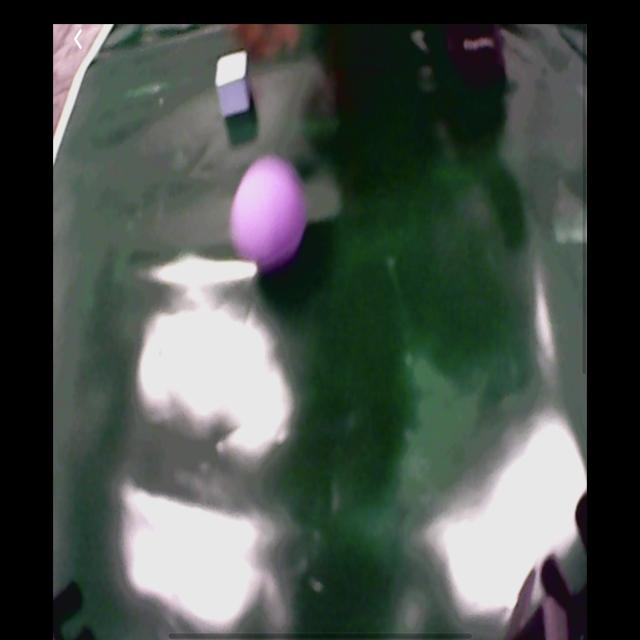ball: (234, 159, 308, 268)
